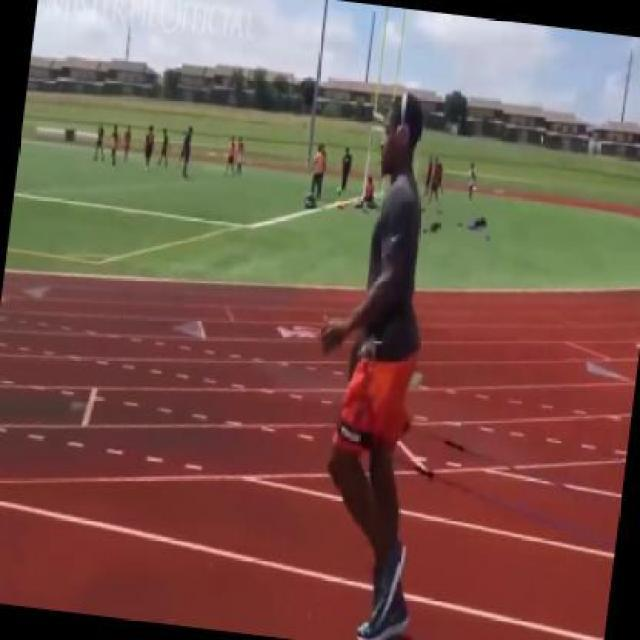non-fight: (283, 81, 474, 638)
